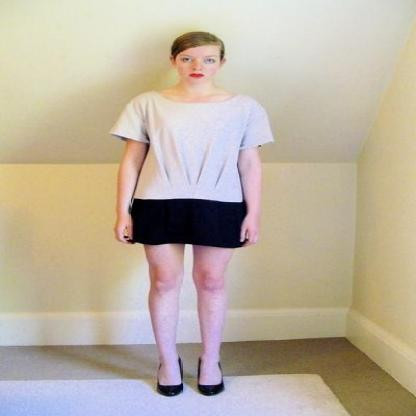shirt: (112, 93, 272, 202)
shoe: (157, 374, 224, 396)
